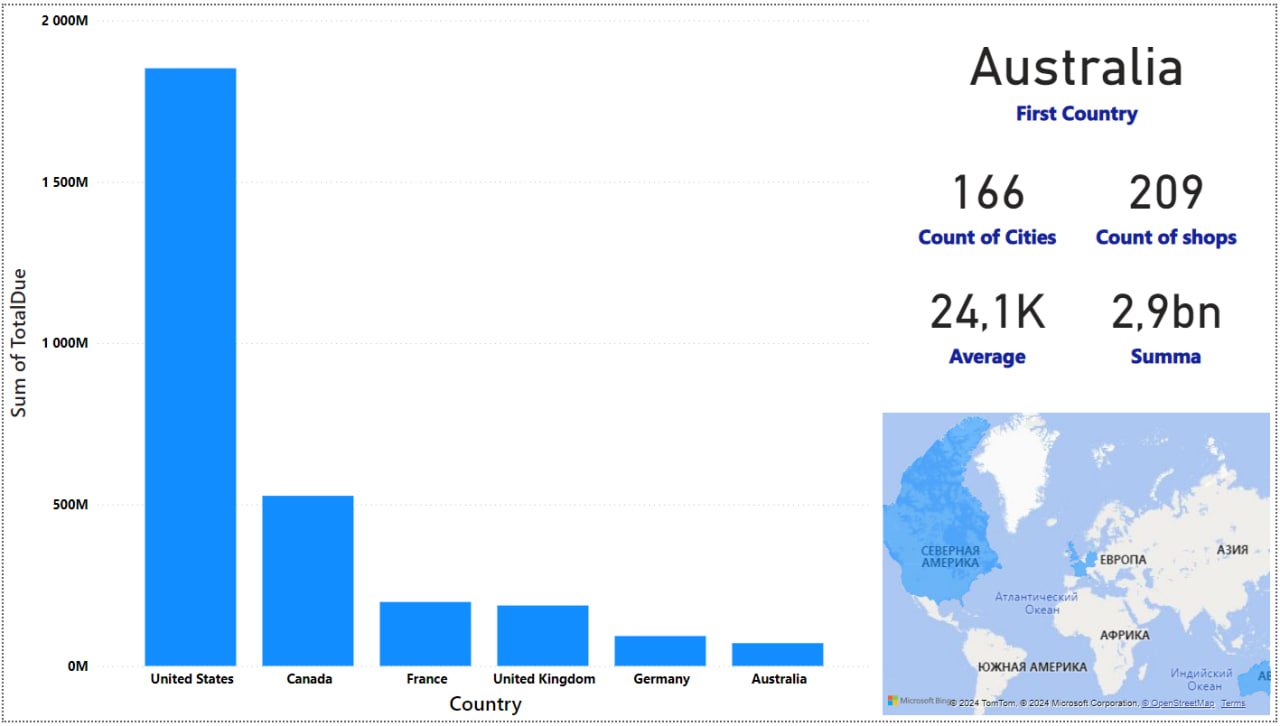

This screenshot's page, from the dashboard's own definition file:
{"tool":"powerbi","page":{"name":"Country","canvas":[1280,720],"ordinal":1},"visuals":[{"type":"lineClusteredColumnComboChart","fields":{"Category":["Query1.Country"],"Y":["Sum(Query1.TotalDue)"]},"box":[0,0,880,720],"z":0},{"type":"filledMap","fields":{"Category":["Query1.Country"]},"box":[880,405.6,400,314.4],"z":1000},{"type":"card","fields":{"Values":["Count(Country.City)"]},"box":[900,135.6,180,120],"z":2000},{"type":"card","fields":{"Values":["Min(Query1.Country)"]},"box":[880,0,400,135],"z":3000},{"type":"card","fields":{"Values":["CountNonNull(Country.shop)"]},"box":[1080,135.6,180,120],"z":4000},{"type":"card","fields":{"Values":["Avg(Header.TotalDue)"]},"box":[900,255.6,180,120],"z":5000},{"type":"card","fields":{"Values":["Sum(Header.TotalDue)"]},"box":[1080,255.6,180,120],"z":6000}]}

Visuals, with their boxes in screenshot pixels (x1, y1, x2, y2), scaled from the page's 1280x720 canvas onto the 1280x726 screenshot:
lineClusteredColumnComboChart - Query1.Country x Sum(Query1.TotalDue): (left=0, top=0, right=880, bottom=725)
filledMap - Query1.Country: (left=880, top=409, right=1279, bottom=725)
card - Count(Country.City): (left=900, top=137, right=1080, bottom=258)
card - Min(Query1.Country): (left=880, top=0, right=1279, bottom=136)
card - CountNonNull(Country.shop): (left=1080, top=137, right=1260, bottom=258)
card - Avg(Header.TotalDue): (left=900, top=258, right=1080, bottom=379)
card - Sum(Header.TotalDue): (left=1080, top=258, right=1260, bottom=379)
